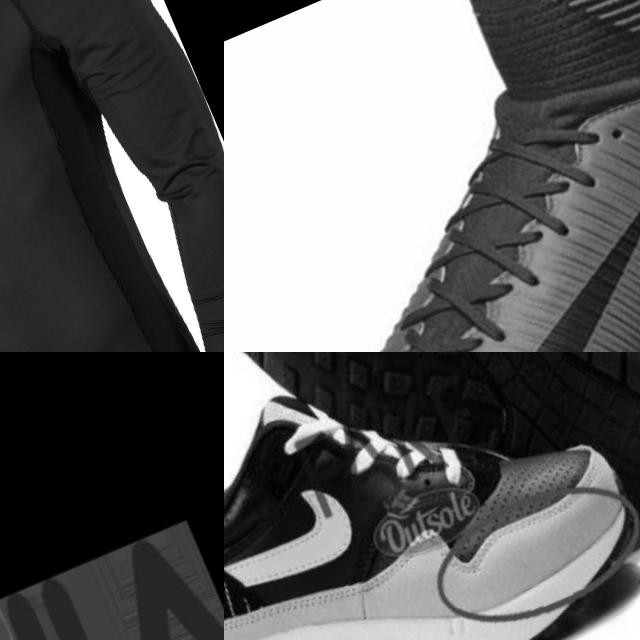FILA_original: (0, 468, 224, 640)
NIKE_fake: (224, 465, 381, 638)
NIKE_original: (277, 128, 640, 352)
